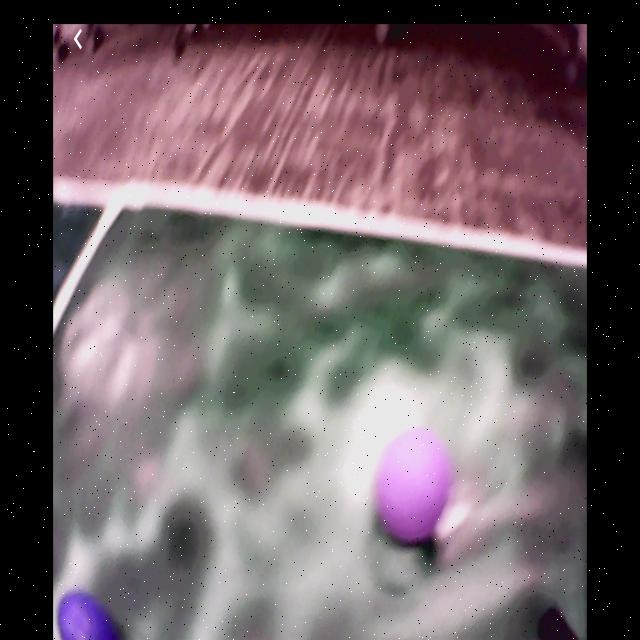ball: (375, 434, 450, 541), (58, 591, 118, 640)
